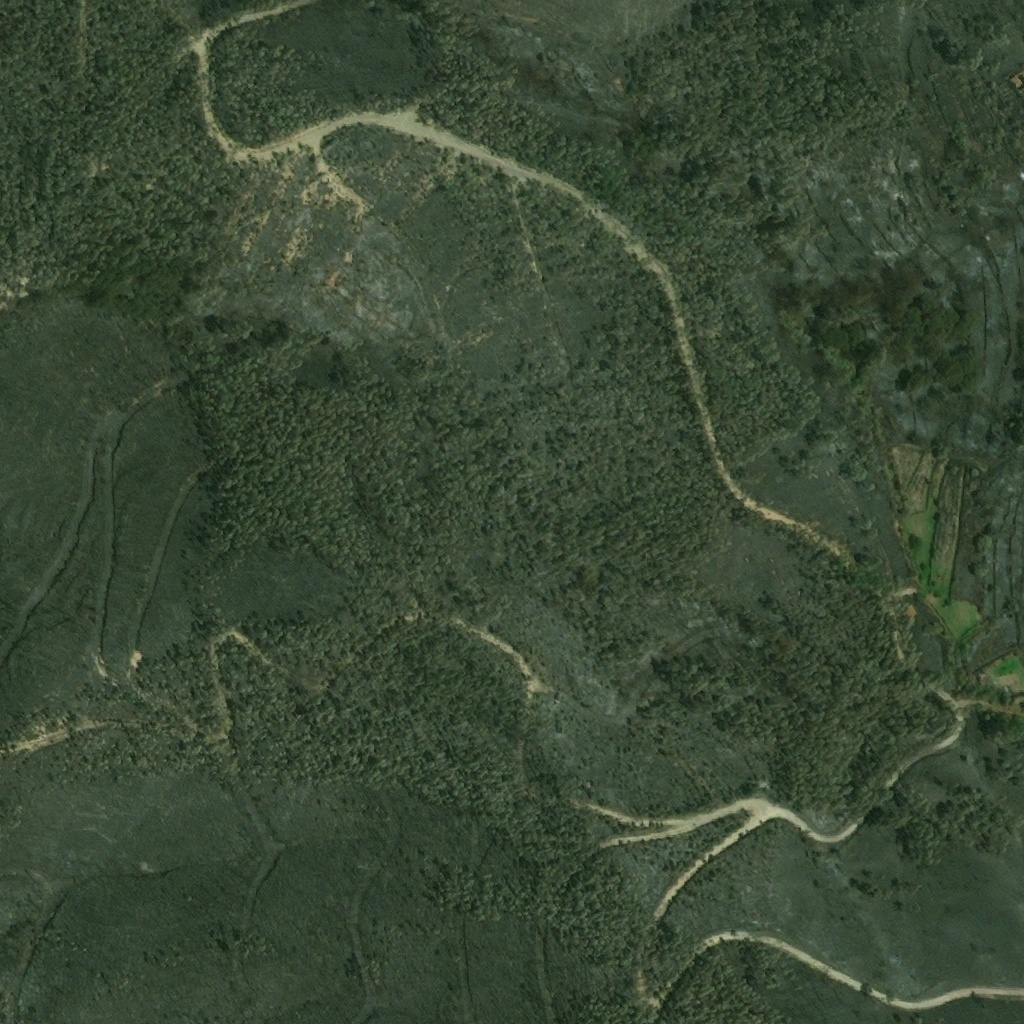4 un-classified: (1010, 71, 1023, 94)
